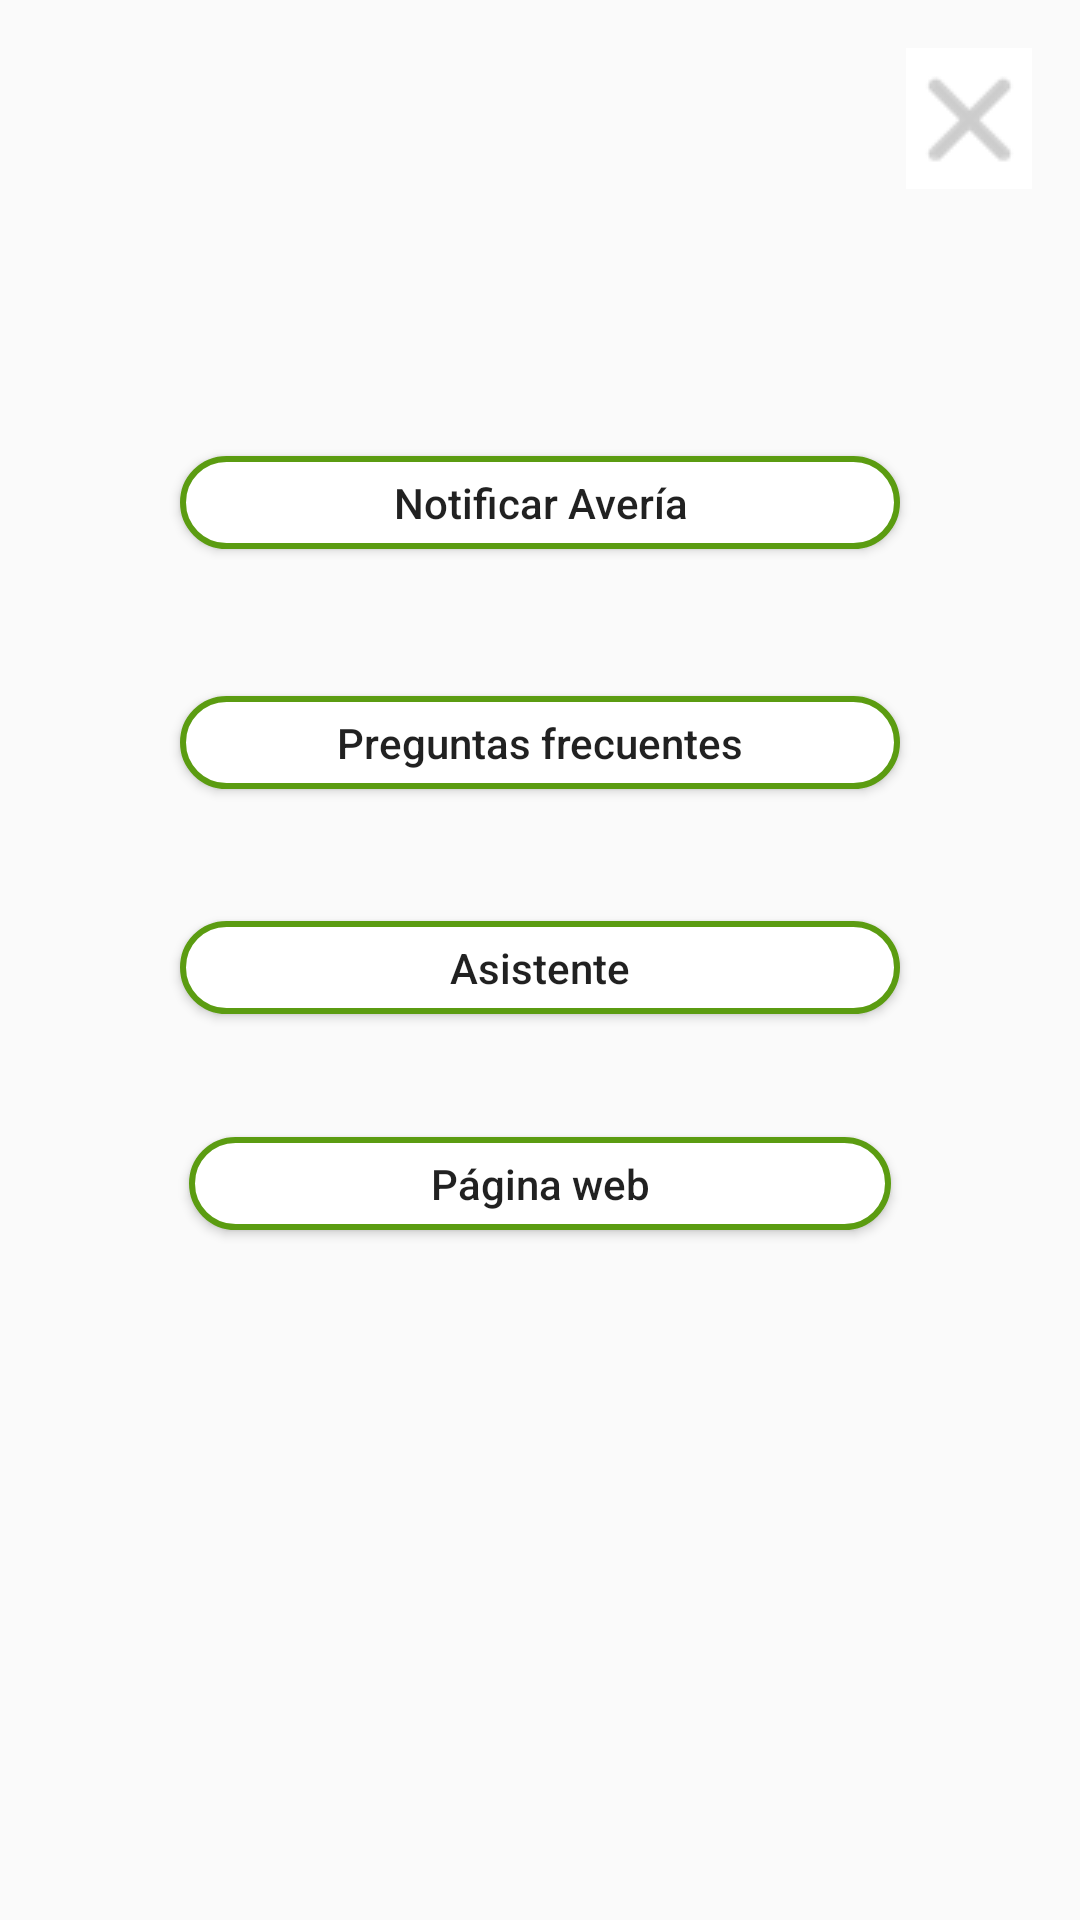

Where icons sit on this 1080*1920 app screen, as (x1, y1, x2, y2):
salir: (929, 79, 1010, 160)
